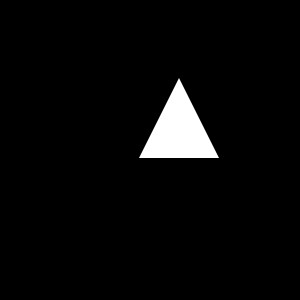triangle: (139, 78, 219, 158)
